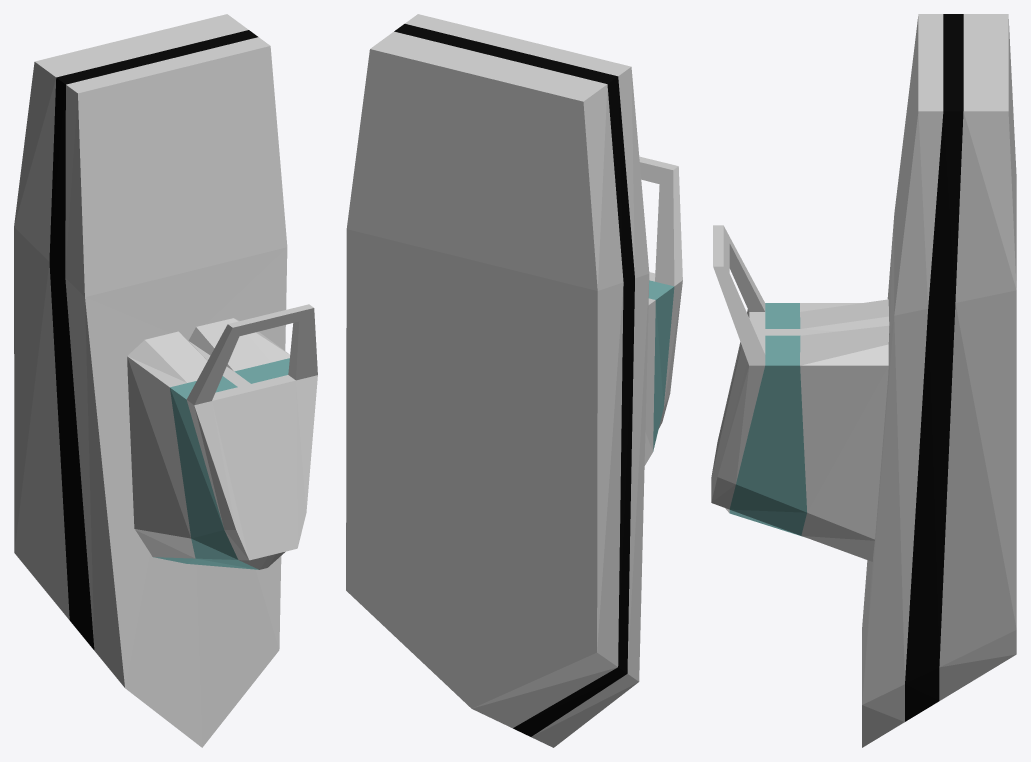
Rendered from boat.glb.
3 renders of one model, left to right at view 1: azimuth 30°, elevation 25°; view 2: azimuth 150°, elevation 25°; view 3: azimuth 270°, elevation 25°, orthographic. The views are drawn at different scales.
Visible parts, largest first — view 1: White-material.001, Black-material, LightBlue-material.001; view 2: White-material.001, Black-material, LightBlue-material.001; view 3: White-material.001, Black-material, LightBlue-material.001.
Part boxes in pixels (bbox=[...]): White-material.001: bbox=[14, 14, 317, 747]; Black-material: bbox=[49, 30, 257, 649]; LightBlue-material.001: bbox=[153, 358, 289, 569]; White-material.001: bbox=[346, 14, 682, 747]; Black-material: bbox=[394, 24, 634, 736]; LightBlue-material.001: bbox=[648, 280, 674, 451]; White-material.001: bbox=[711, 14, 1016, 747]; Black-material: bbox=[905, 14, 963, 721]; LightBlue-material.001: bbox=[729, 303, 807, 536].
Size of the model in its own units: 13.42 by 37.23 by 15.05.
